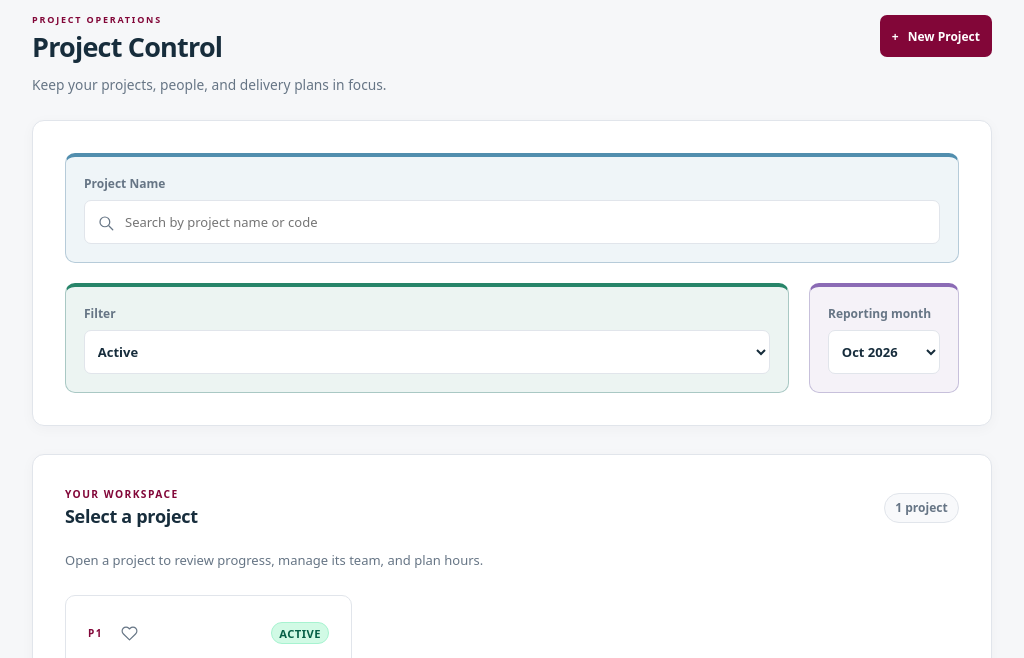
Test case: retains Admin project editing
Type "Atlas" into the field labelled "Project Name" at (512,222), box left=84, top=200, right=940, bottom=244
(page scrolled)
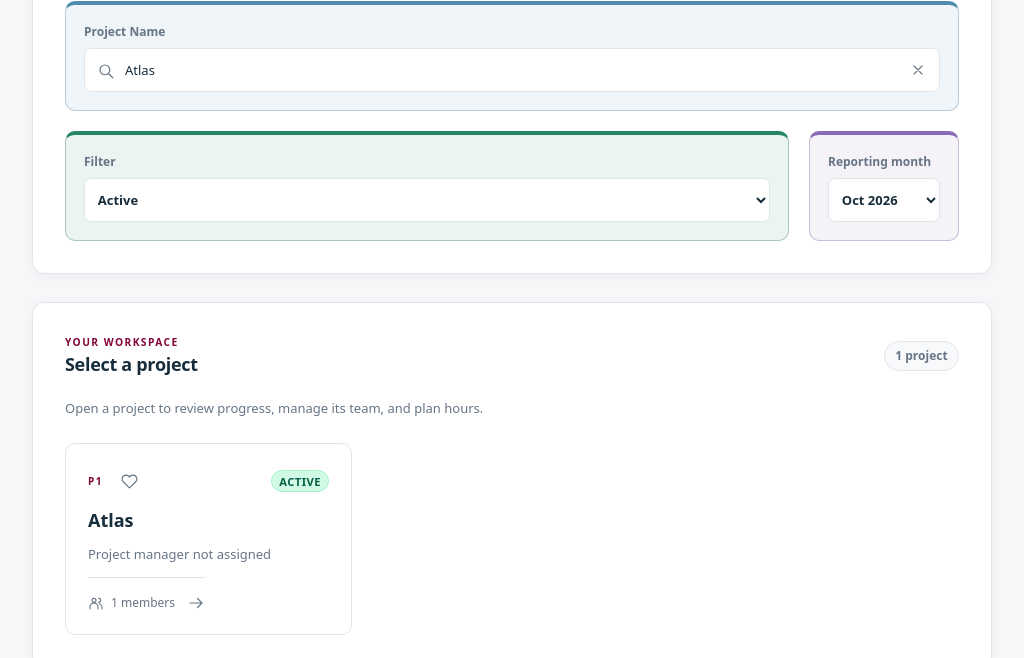
Click the button "Atlas Project manager not assigned 1 members" at (209,560), box left=88, top=508, right=329, bottom=612
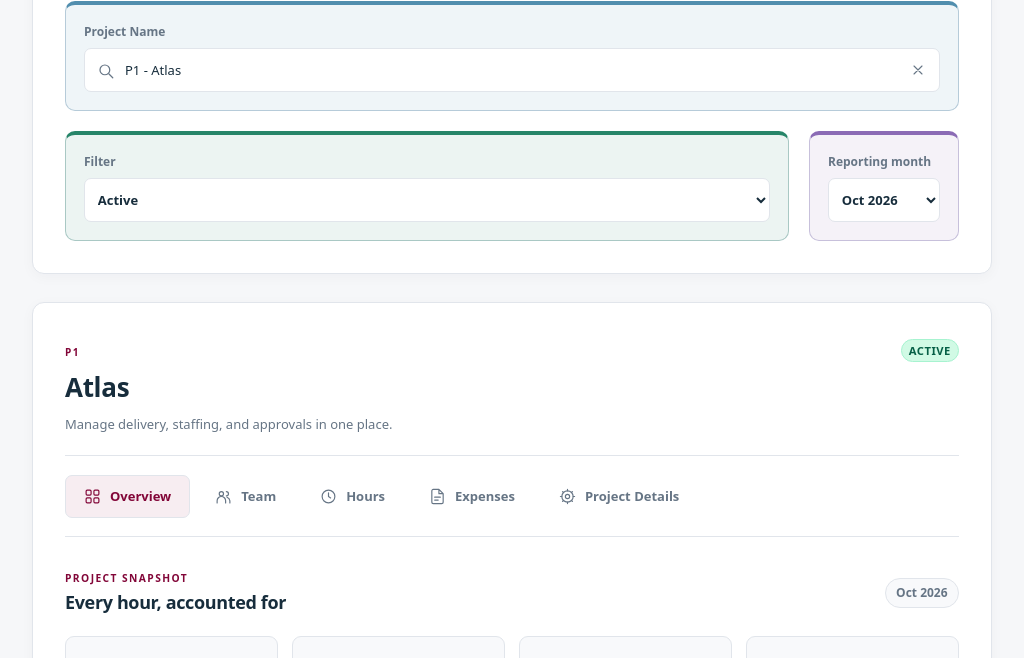
Click the button "Project Details" at (619,496), box left=540, top=475, right=698, bottom=518
(page scrolled)
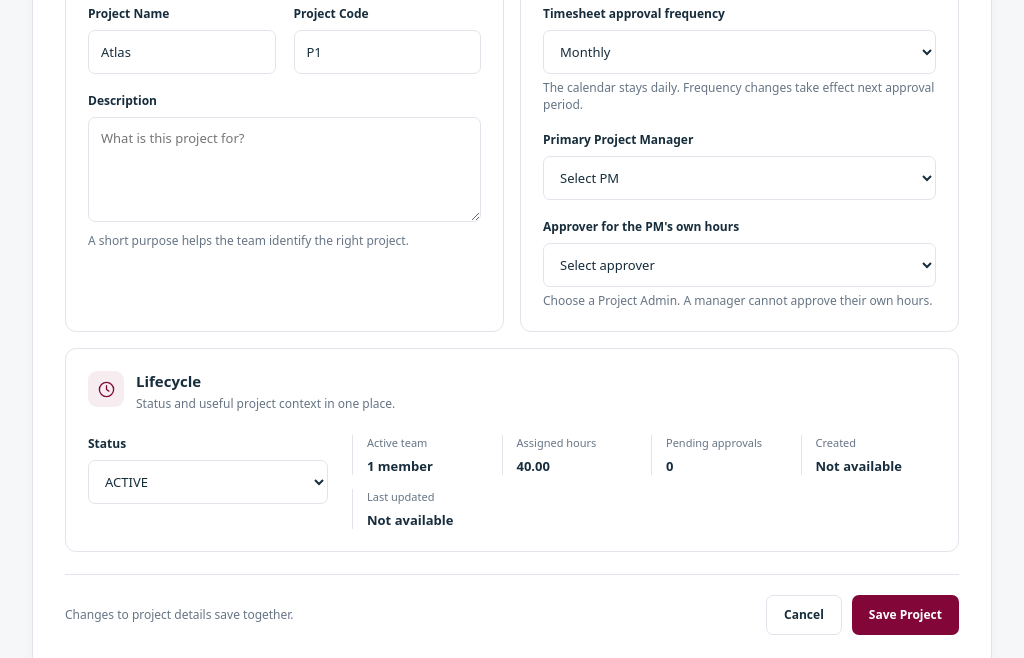
Expected: the button "Save Project" is shown, left=852, top=594, right=959, bottom=634
Expected: the button "Cancel" is shown, left=766, top=594, right=842, bottom=634
